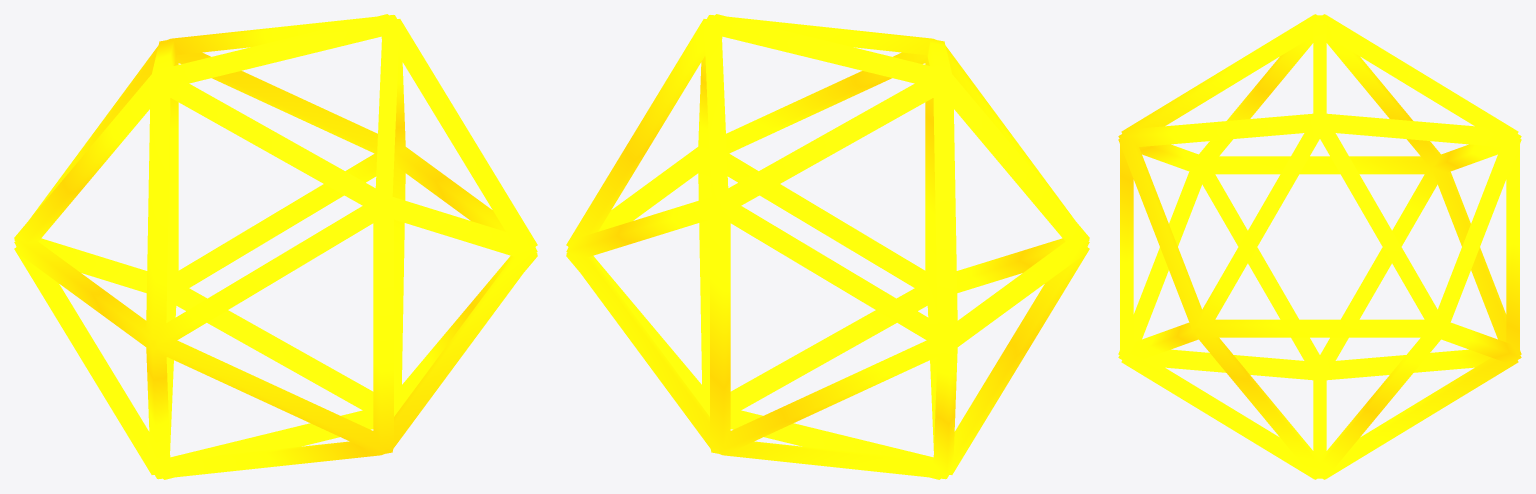
File: d20-wire-gold-mobile.glb
The picture shows the model from 3 angles, left to right: view 1: azimuth 30°, elevation 25°; view 2: azimuth 150°, elevation 25°; view 3: azimuth 270°, elevation 25°; orthographic projection. The views are drawn at different scales.
Bounding box in the file's own units: 1.76 × 1.77 × 1.78.
